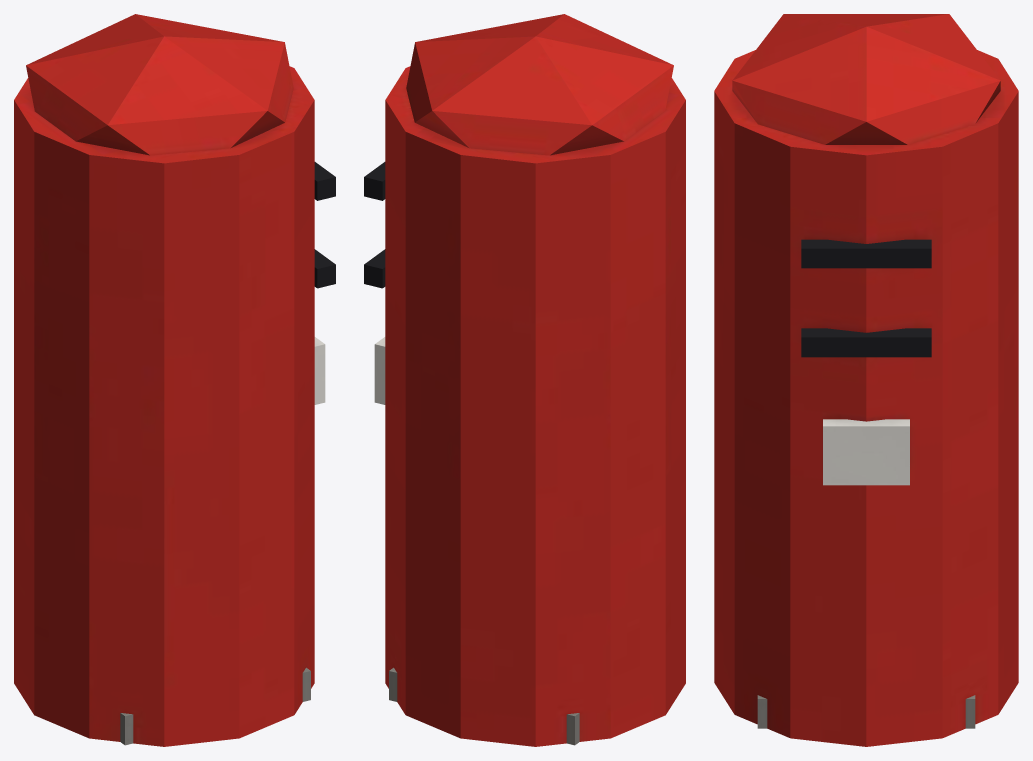
The model's file is postlada_tex.glb.
The picture shows the model from 3 angles, left to right: view 1: azimuth 30°, elevation 25°; view 2: azimuth 150°, elevation 25°; view 3: azimuth 270°, elevation 25°; orthographic projection.
Visible parts, largest first — view 1: postlada; view 2: postlada; view 3: postlada.
Boxes of the visible parts, bbox=[...] form: postlada: bbox=[14, 14, 335, 746]; postlada: bbox=[364, 14, 685, 746]; postlada: bbox=[714, 14, 1018, 746].
Size of the model in its own units: 0.58 by 1.33 by 0.56.
4 materials, 3 textured.
